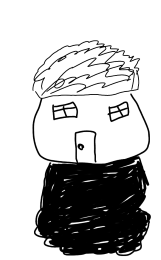closed_window: (47, 101, 87, 121), (104, 100, 135, 123)
door: (71, 127, 104, 164)
roof: (18, 34, 151, 98)
shadow: (25, 156, 155, 258)
wall: (28, 87, 153, 165)
